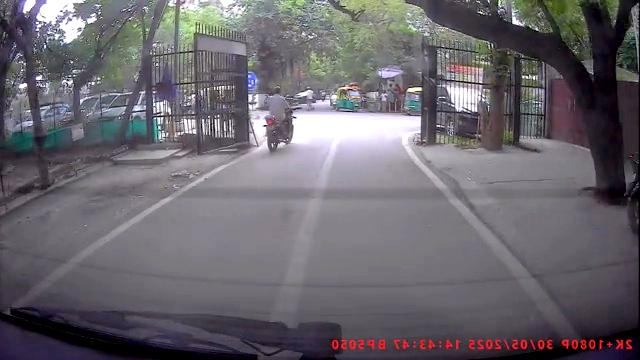motorcycle_without_helmet: (263, 83, 295, 154)
